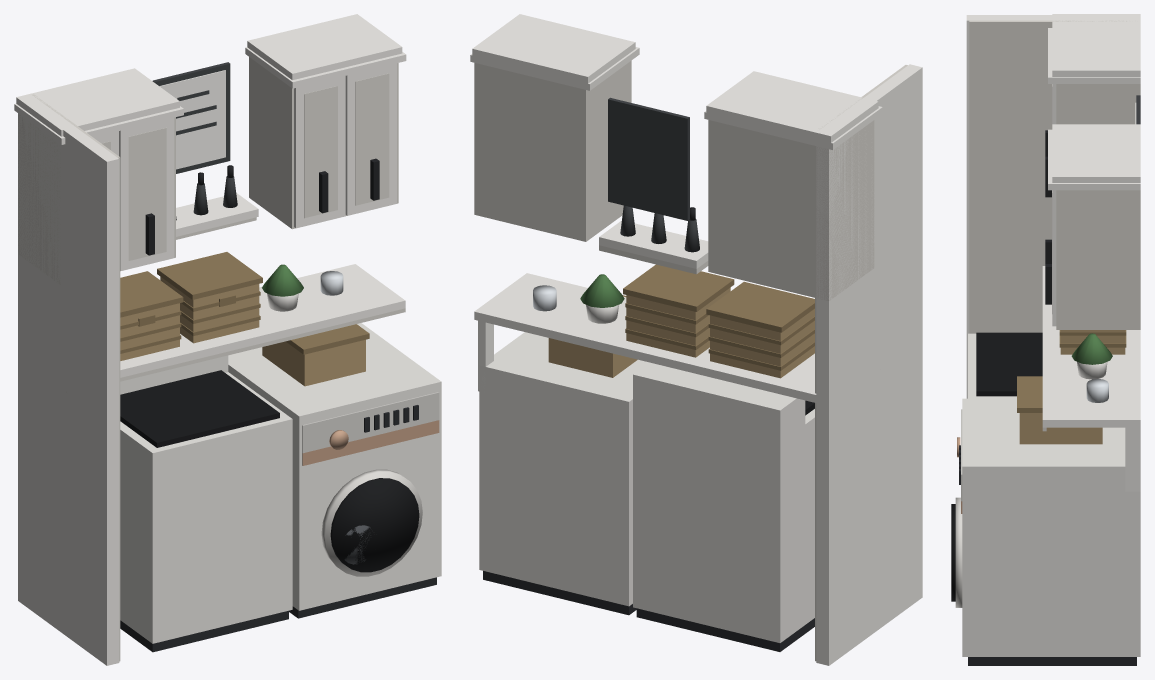
The model's file is laundry_washer_dryer.glb.
The picture shows the model from 3 angles, left to right: view 1: azimuth 30°, elevation 25°; view 2: azimuth 150°, elevation 25°; view 3: azimuth 270°, elevation 25°; orthographic projection. The views are drawn at different scales.
Visible parts, largest first — view 1: root; view 2: root; view 3: root.
Boxes of the visible parts, x1,y1,x2,y2 form: root: (14, 14, 441, 665); root: (470, 14, 922, 665); root: (951, 14, 1140, 665).
Bounding box in the file's own units: 1.72 × 2.4 × 0.8352.
